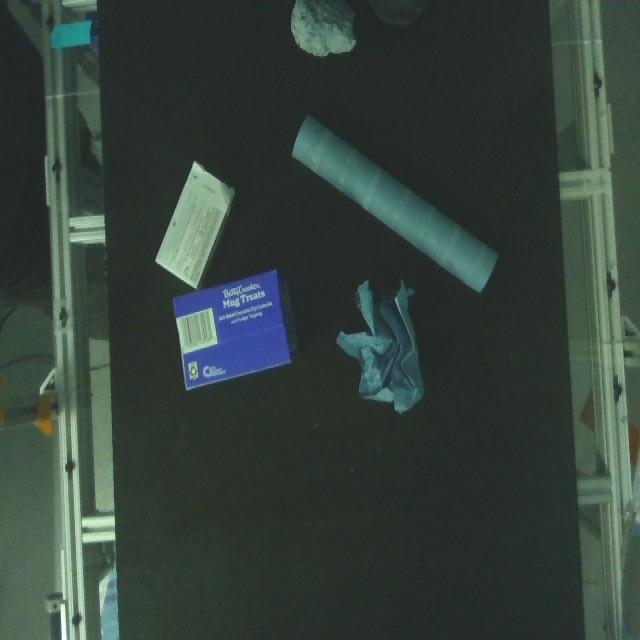non-paper: (286, 0, 358, 71), (365, 0, 444, 26)
paper: (290, 118, 506, 294), (170, 265, 299, 405), (334, 278, 432, 412), (154, 161, 245, 294)
